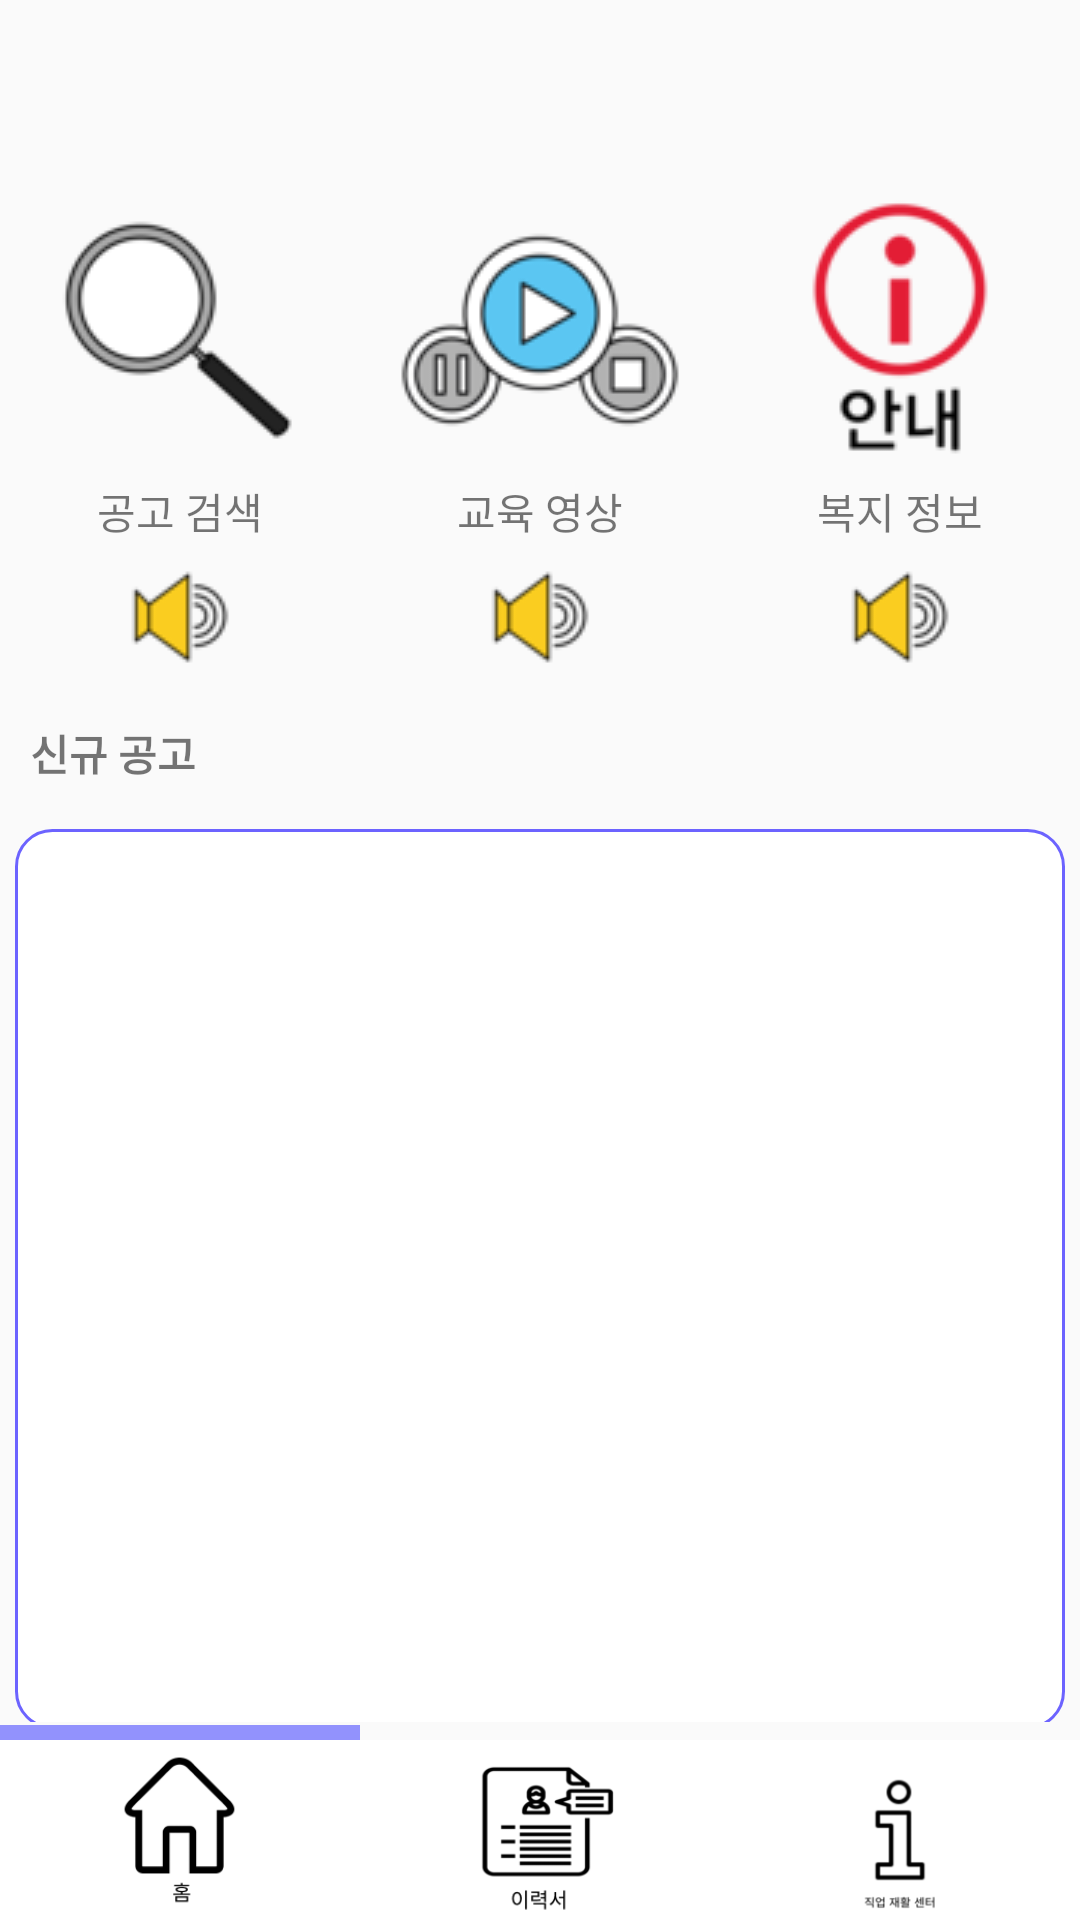

Where icons sit on this 1080x1920 app screen, as [x1,y1,x2,y2]:
home sound: [133,572,229,663], [493,572,589,663], [853,572,949,663]
